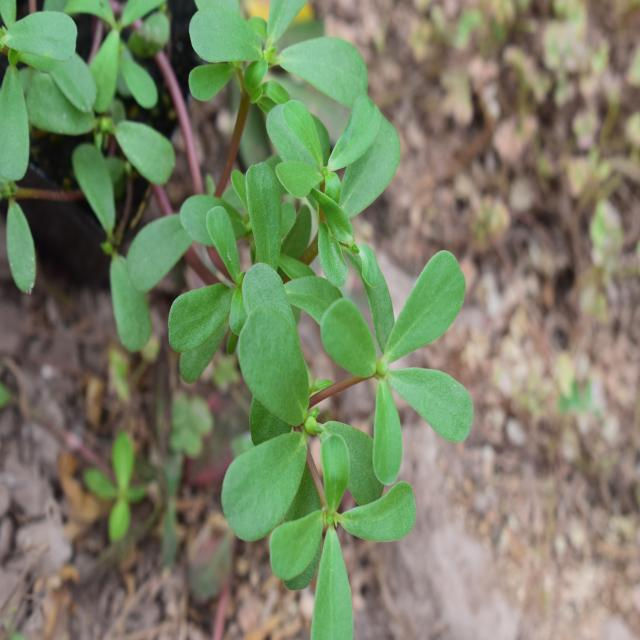purslane: (4, 11, 478, 628)
